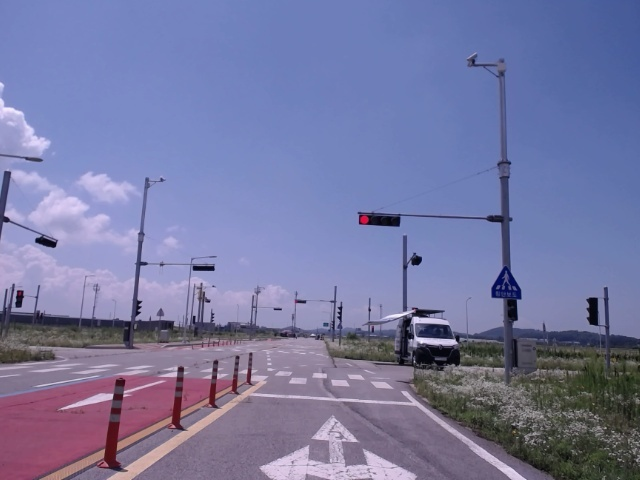red_4: (359, 215, 400, 227)
